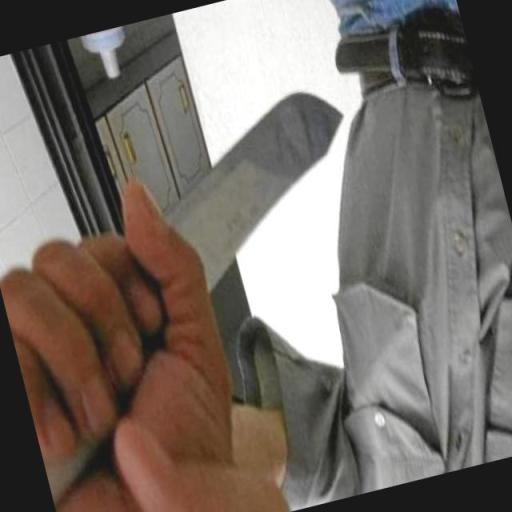knife: (0, 81, 420, 509)
